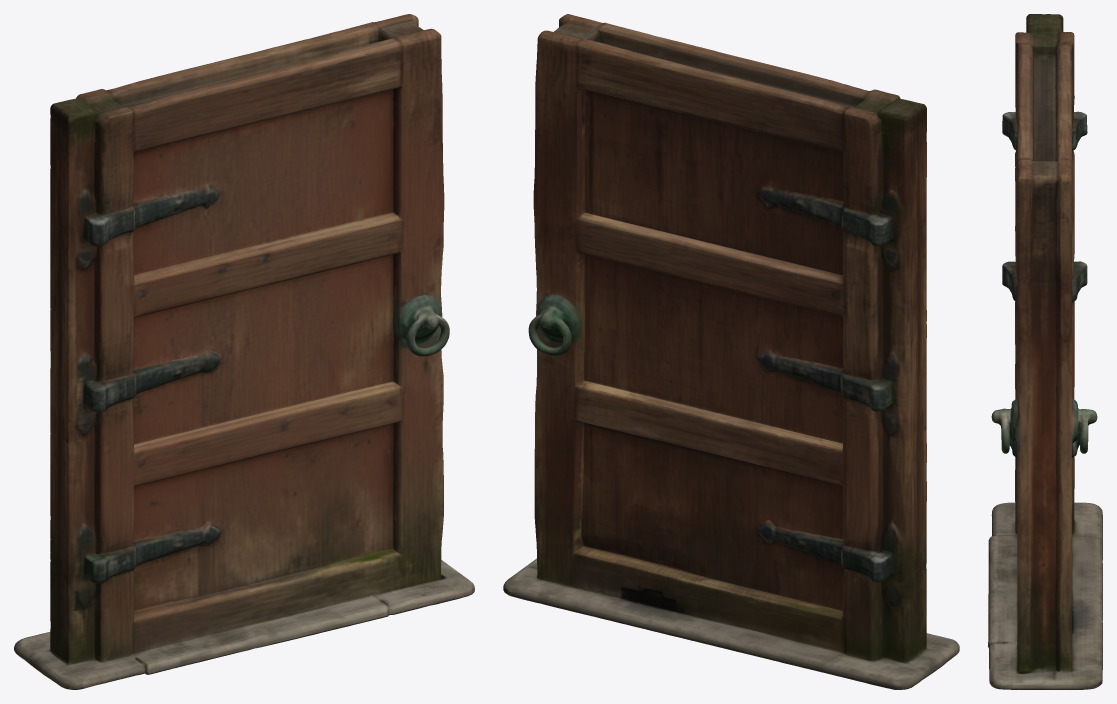
Rendered from ARCH-014.glb.
3 renders of one model, left to right at view 1: azimuth 30°, elevation 25°; view 2: azimuth 150°, elevation 25°; view 3: azimuth 270°, elevation 25°, orthographic. The views are drawn at different scales.
Parts seen in each view (by area): view 1: world; view 2: world; view 3: world.
Part boxes in pixels (bbox=[...]): world: bbox=[14, 14, 474, 689]; world: bbox=[503, 14, 959, 689]; world: bbox=[988, 14, 1102, 689].
Bounding box in the file's own units: 2 × 2.58 × 0.5322.
1 material, 1 textured.
